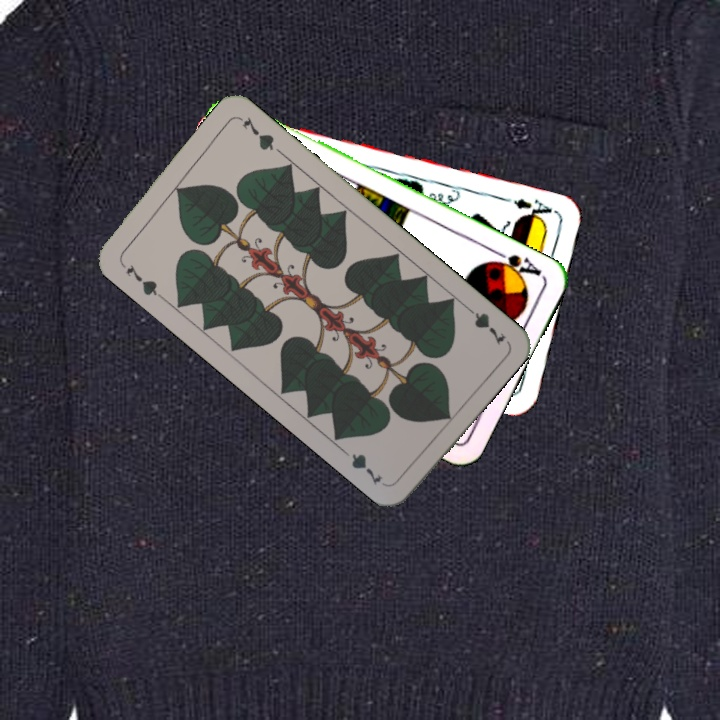EA: (509, 194, 560, 225)
G7: (460, 300, 509, 348), (122, 260, 166, 301)
SA: (485, 245, 545, 283)
